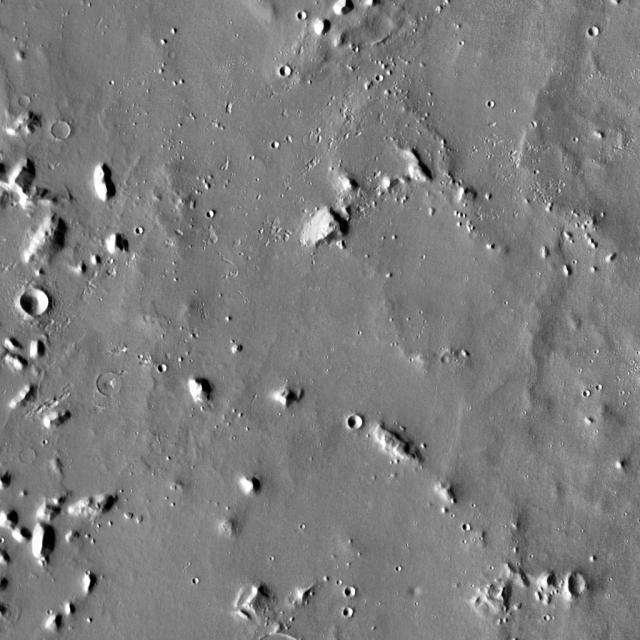crater: (23, 287, 51, 314), (100, 372, 122, 394), (568, 575, 588, 594), (54, 120, 72, 138), (22, 448, 37, 463), (350, 418, 363, 430), (20, 95, 32, 106), (410, 584, 421, 596), (590, 27, 602, 37), (281, 66, 292, 76), (347, 588, 357, 598), (457, 348, 467, 358), (346, 609, 355, 618), (442, 355, 452, 363), (160, 364, 168, 372), (137, 227, 145, 235), (300, 12, 308, 19), (378, 76, 386, 83), (457, 517, 465, 524), (482, 92, 489, 100), (170, 52, 177, 60), (208, 211, 216, 218), (187, 569, 194, 576), (578, 384, 585, 390), (268, 136, 274, 142), (539, 608, 545, 614)
